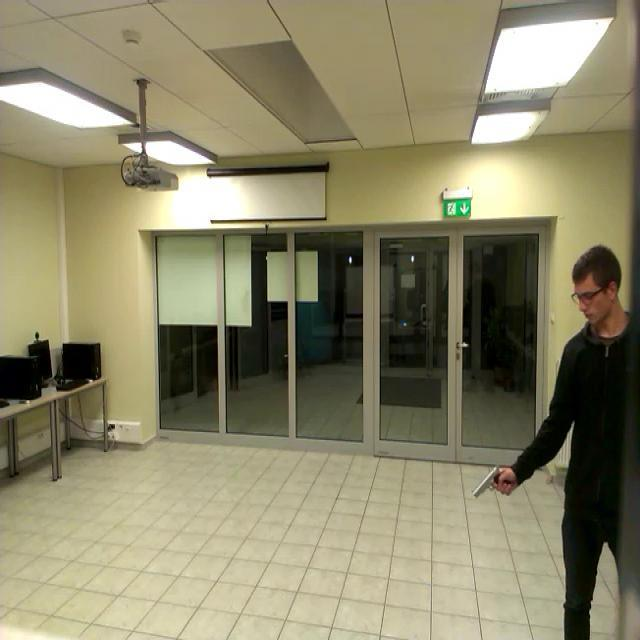Gun: (472, 463, 510, 497)
